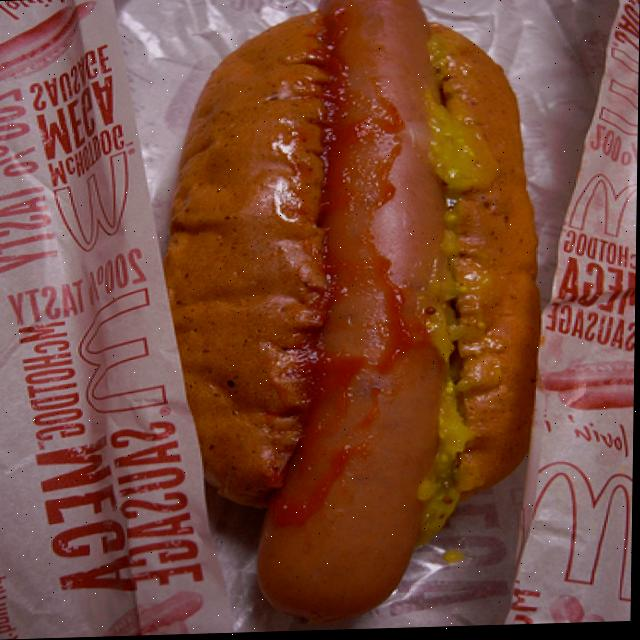汉堡快餐: (170, 0, 532, 628)
